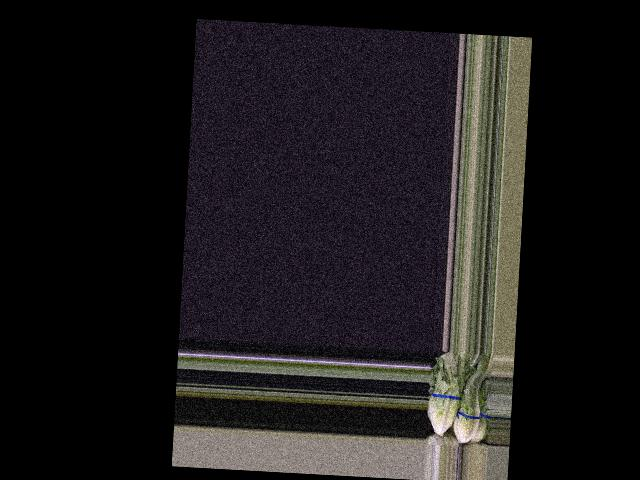lettuce: (452, 368, 488, 445)
